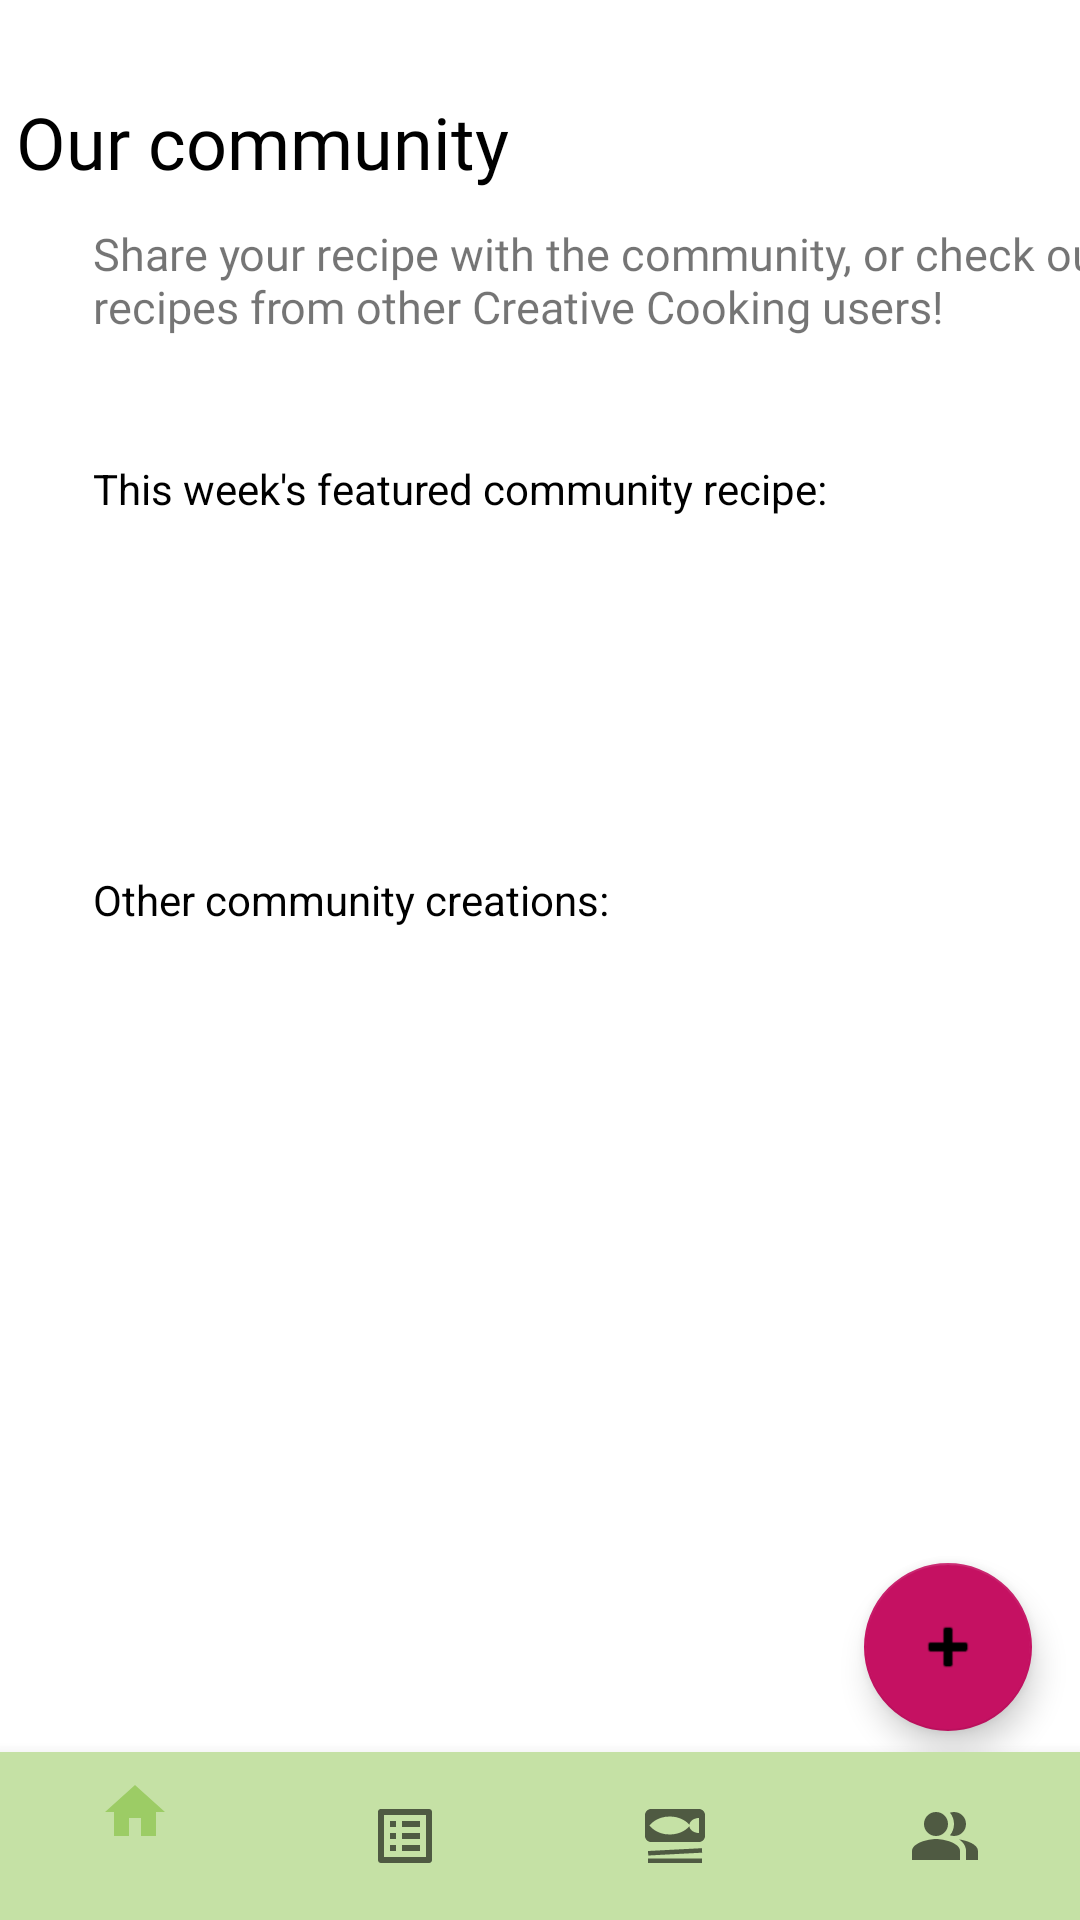

Screen size 1080×1920. Icon name, then its box in pixels as region(x1, y1, x2, y2):
add: region(864, 1563, 1032, 1731)
